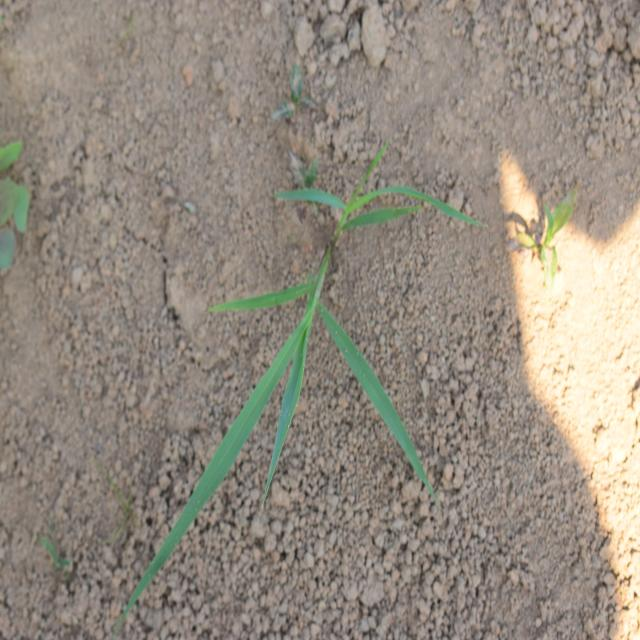green_foxtail: (146, 240, 445, 520), (302, 162, 474, 260)
